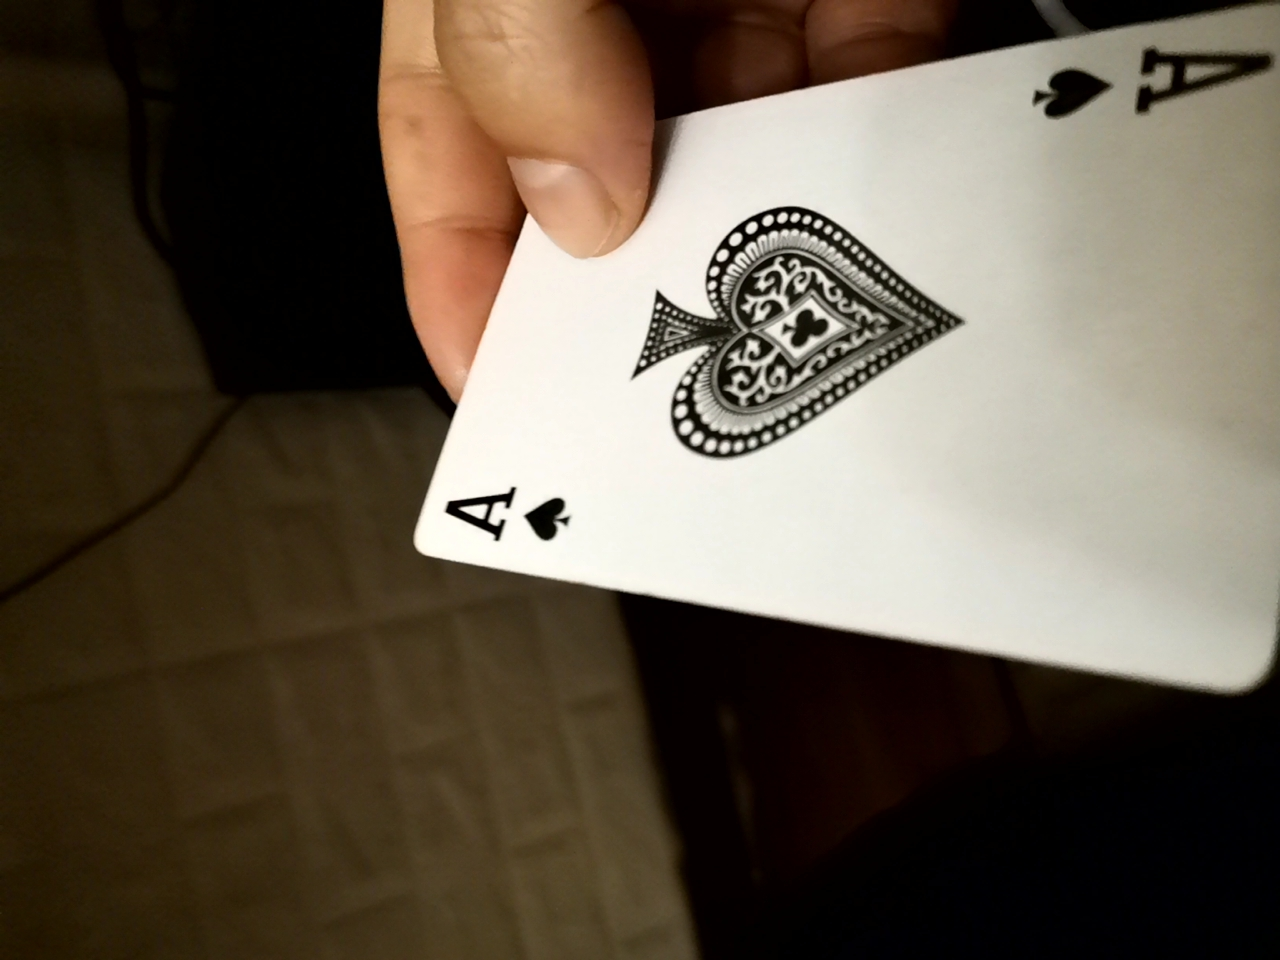ht a: (423, 7, 1270, 707)
